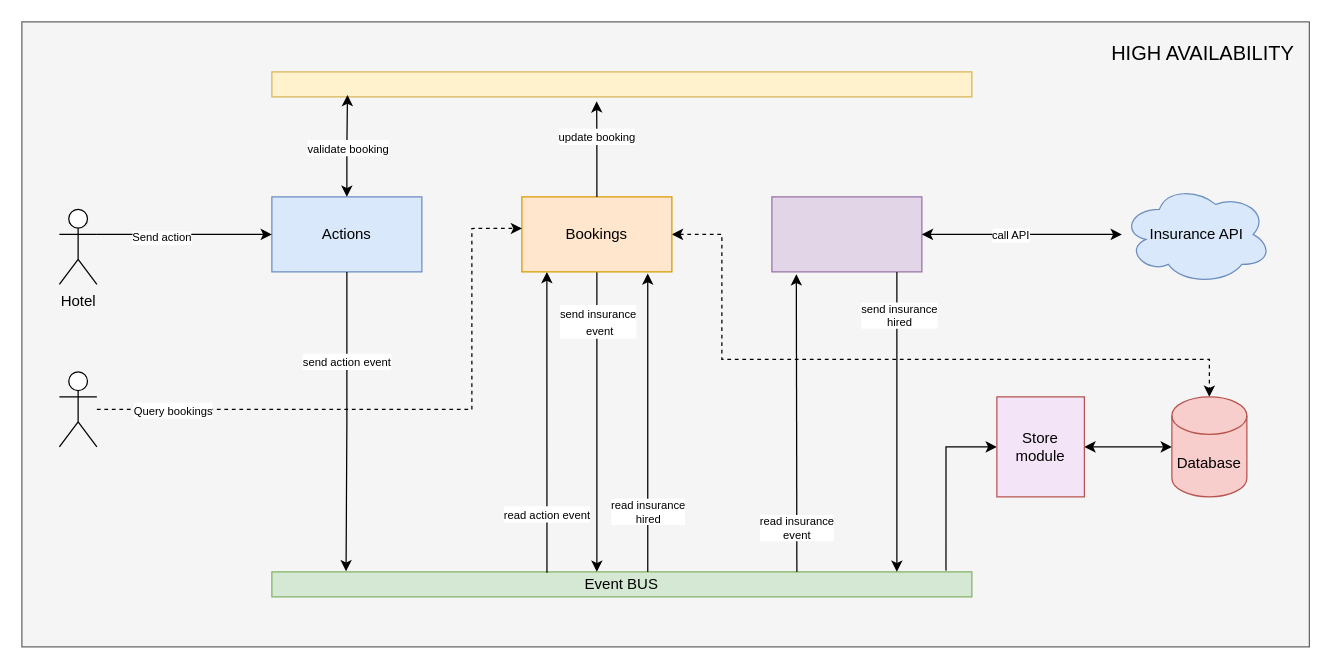
Some shapes in this 1331 by 669 pixel diagram are drawn without their labels. The shapes that lost their labels are listed below. From the top down, each one's centre as x and y in pixels, then its label:
At (621,84): "Cache system".
At (846,234): "Insurances".
At (77,409): "Backoffice".
